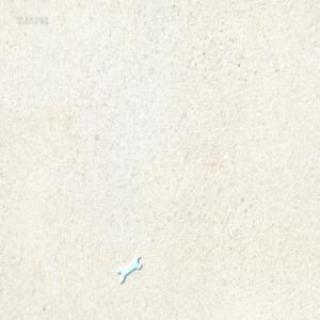Wrenchtrack_idkeyframe: (116, 252, 140, 283)
